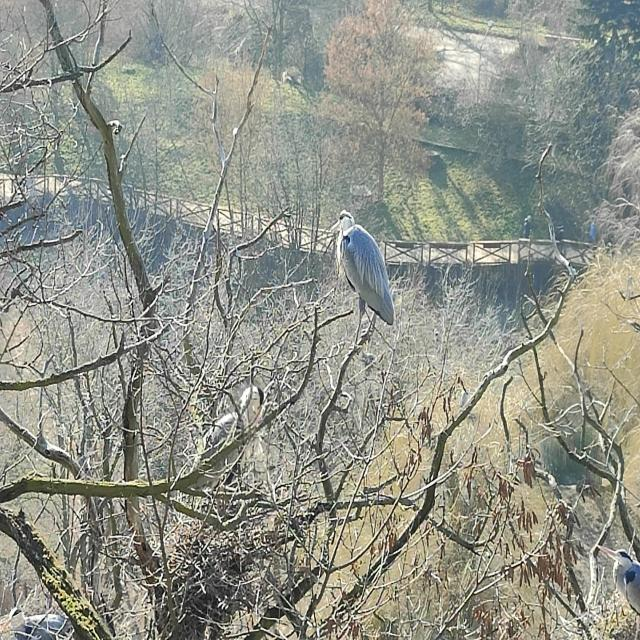bird: (330, 209, 395, 350), (597, 545, 640, 615)
